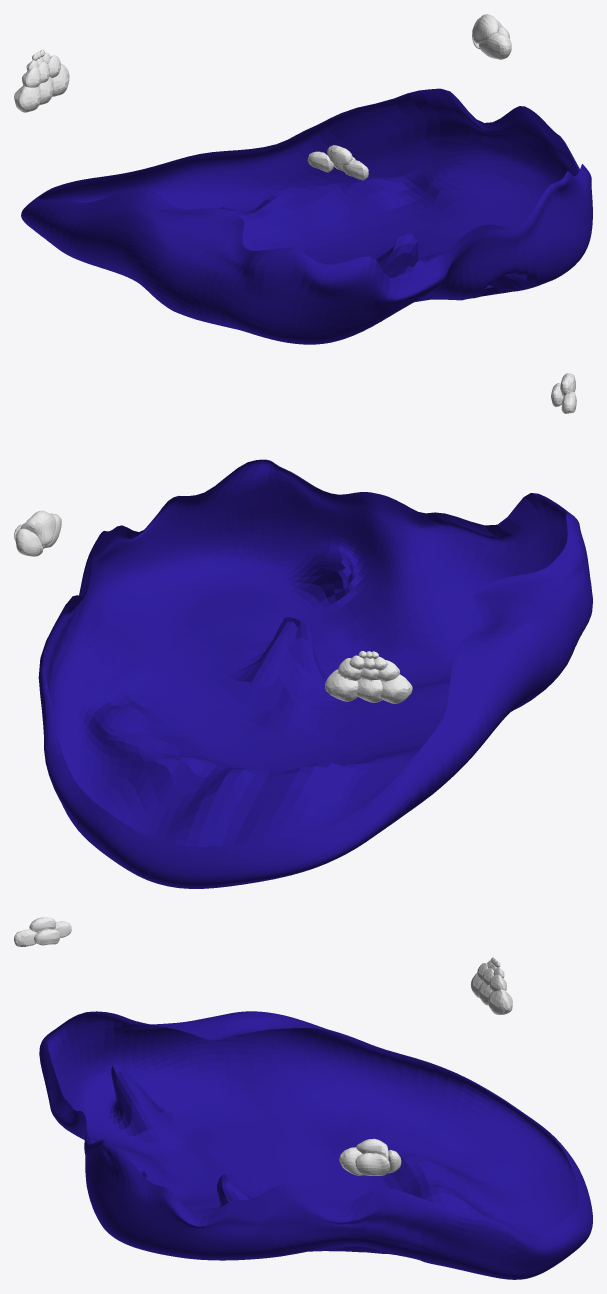
The picture shows the model from 3 angles, top to bottom: view 1: azimuth 30°, elevation 25°; view 2: azimuth 150°, elevation 25°; view 3: azimuth 270°, elevation 25°; orthographic projection. The views are drawn at different scales.
Parts seen in each view (by area): view 1: 立方体.001, 云2, 云3, 云1; view 2: 立方体.001, 云2, 云3, 云1; view 3: 立方体.001, 云3, 云2, 云1.
Boxes of the visible parts, <box> form: 立方体.001: <box>21,88,592,344</box>; 云2: <box>14,49,69,112</box>; 云3: <box>472,14,511,59</box>; 云1: <box>307,145,368,180</box>; 立方体.001: <box>38,459,592,888</box>; 云2: <box>325,651,412,703</box>; 云3: <box>14,510,61,556</box>; 云1: <box>551,373,576,413</box>; 立方体.001: <box>39,1011,592,1279</box>; 云3: <box>339,1138,401,1175</box>; 云2: <box>471,957,512,1014</box>; 云1: <box>14,917,71,946</box>.
Bounding box in the file's own units: 14.45 × 9.56 × 17.97.
